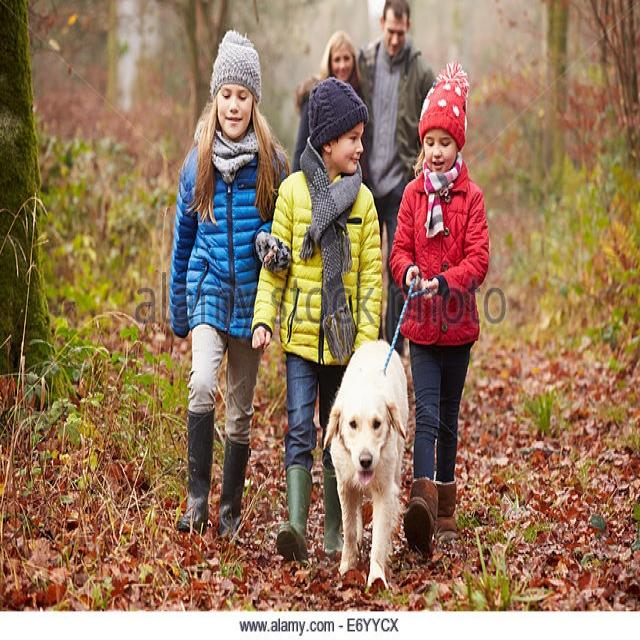body: (247, 69, 385, 576), (171, 30, 289, 546), (387, 54, 492, 570), (353, 0, 437, 358), (291, 27, 376, 188)
